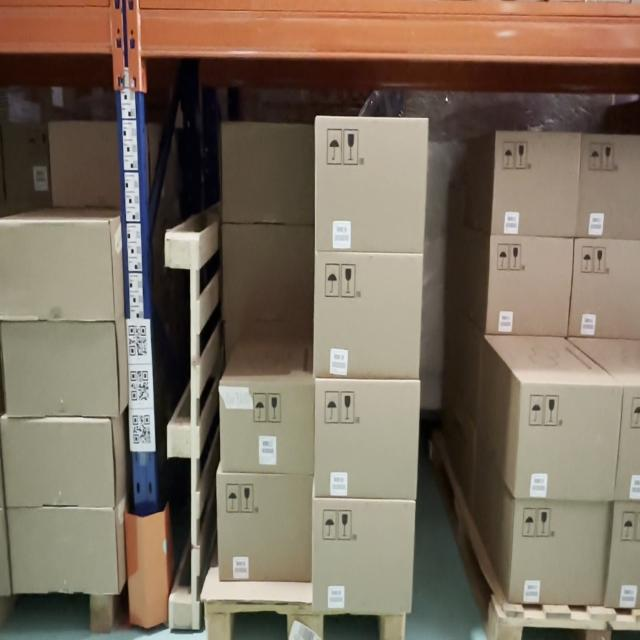box: (317, 118, 423, 249), (315, 255, 422, 374), (513, 384, 621, 500), (0, 322, 119, 419), (316, 381, 415, 497), (0, 221, 114, 319), (313, 502, 415, 611), (509, 501, 609, 607), (1, 421, 115, 509), (7, 508, 120, 594), (218, 477, 311, 580), (491, 133, 580, 236), (224, 124, 314, 223), (486, 238, 573, 335), (221, 382, 315, 471), (223, 226, 313, 314), (569, 237, 640, 339), (576, 135, 640, 239), (605, 502, 640, 610), (615, 385, 640, 500)
